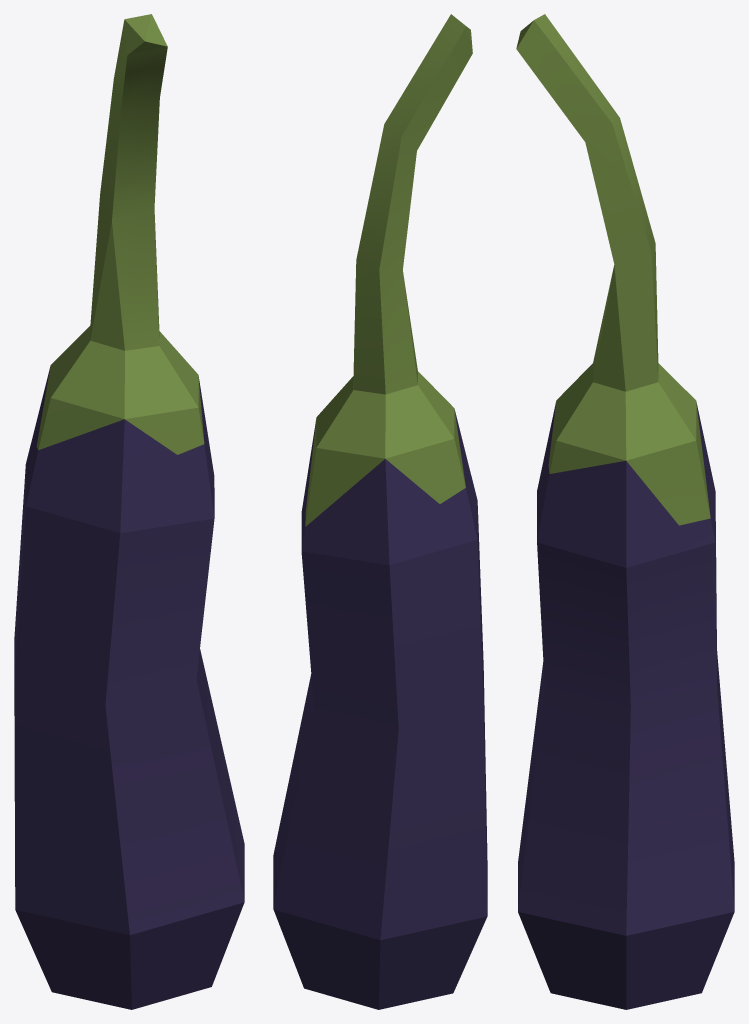
File: eggplant_plant.glb
The picture shows the model from 3 angles, left to right: view 1: azimuth 30°, elevation 25°; view 2: azimuth 150°, elevation 25°; view 3: azimuth 270°, elevation 25°; orthographic projection. The views are drawn at different scales.
Visible parts, largest first — view 1: SM_Prop_Eggplant_01_L; view 2: SM_Prop_Eggplant_01_L; view 3: SM_Prop_Eggplant_01_L.
Part boxes in pixels (bbox=[...]): SM_Prop_Eggplant_01_L: bbox=[14, 14, 244, 1009]; SM_Prop_Eggplant_01_L: bbox=[273, 14, 487, 1009]; SM_Prop_Eggplant_01_L: bbox=[516, 14, 734, 1009].
Size of the model in its own units: 0.1406 by 0.5995 by 0.1227.
Materials: 1 (1 with a texture image).
